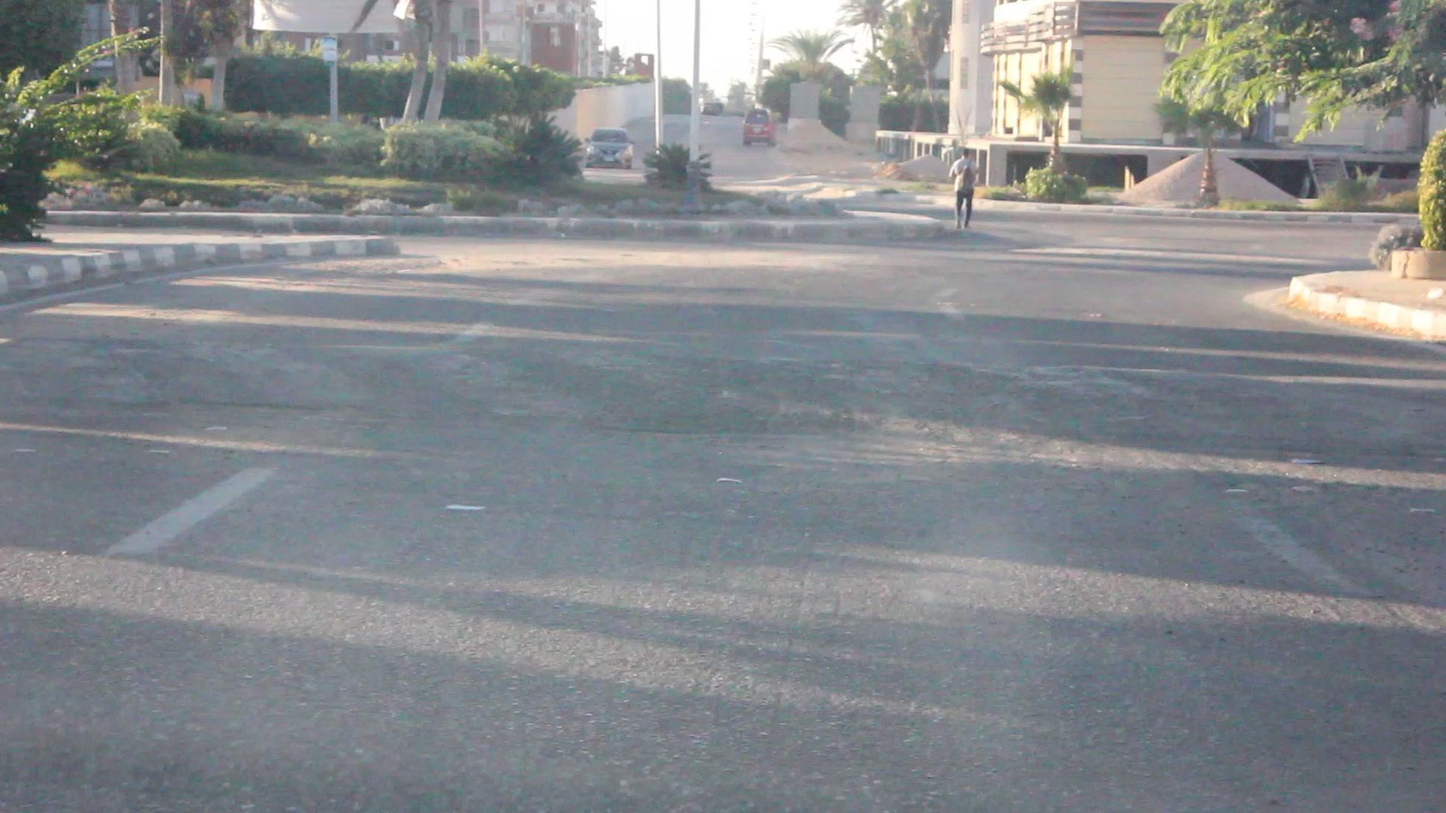Bump: (21, 326, 1446, 438)
